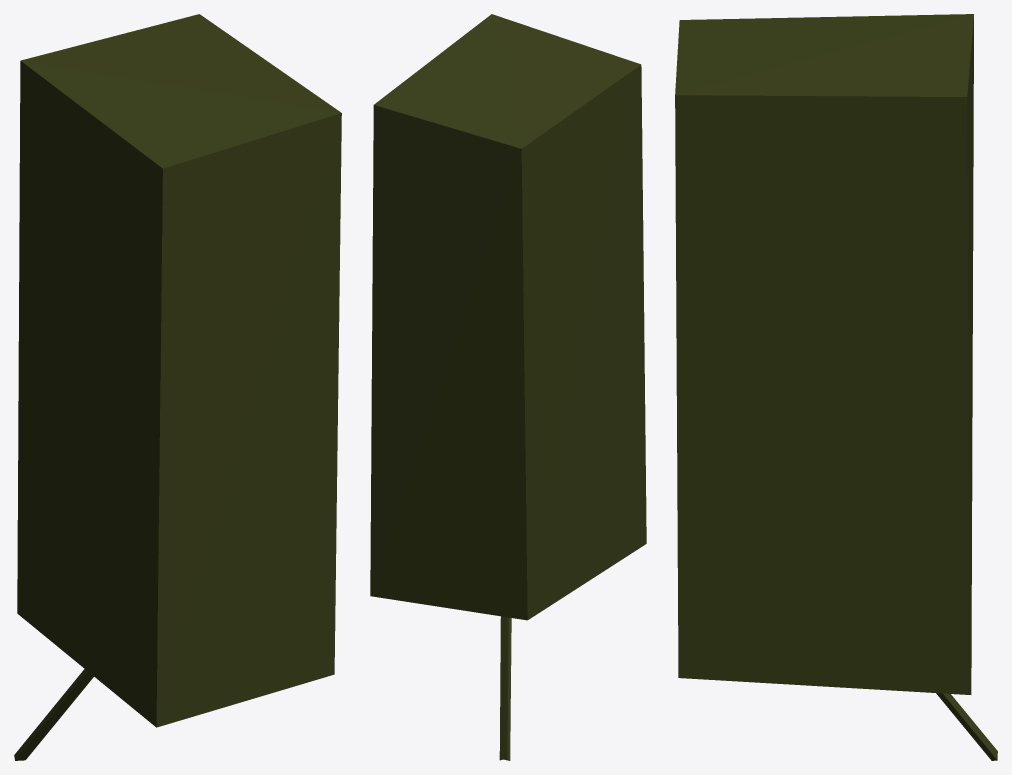
The picture shows the model from 3 angles, left to right: view 1: azimuth 30°, elevation 25°; view 2: azimuth 150°, elevation 25°; view 3: azimuth 270°, elevation 25°; orthographic projection. The views are drawn at different scales.
Visible parts, largest first — view 1: 684_Cube.2746; view 2: 684_Cube.2746; view 3: 684_Cube.2746.
Part boxes in pixels (left/top/right/bottom): 684_Cube.2746: left=14, top=14, right=341, bottom=760; 684_Cube.2746: left=370, top=14, right=646, bottom=760; 684_Cube.2746: left=675, top=14, right=997, bottom=760.
Size of the model in its own units: 4.15 by 15.54 by 6.06.
